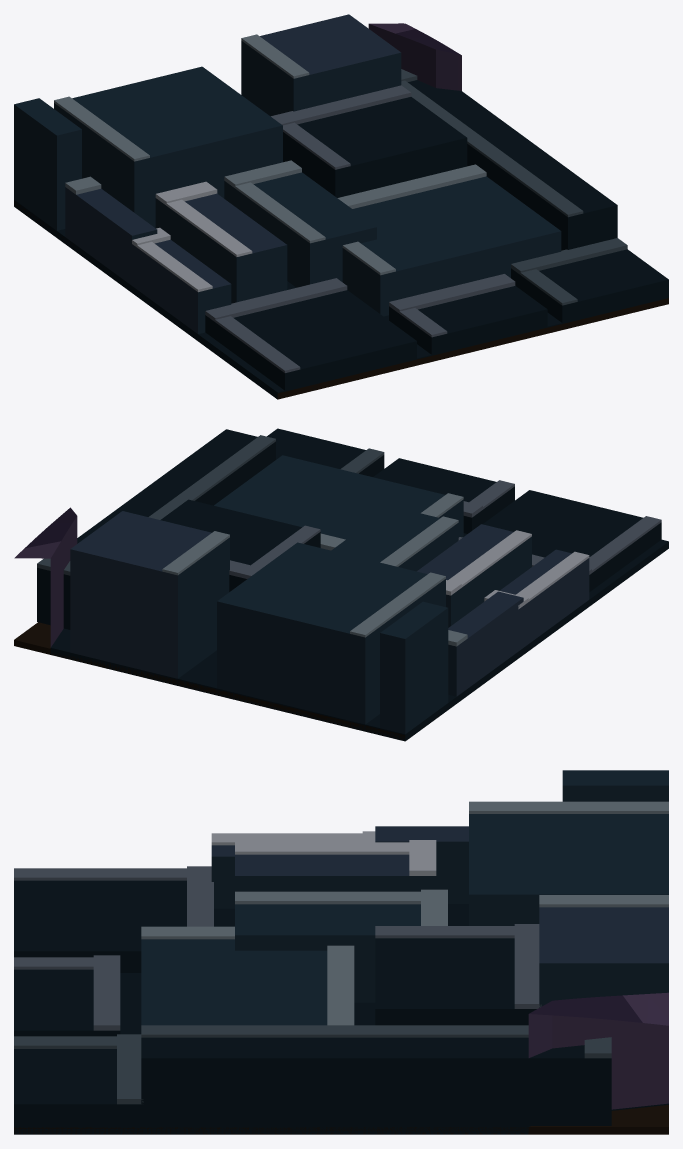
File: newshr-45.glb
3 views of the same model, one above another, from view 1: azimuth 30°, elevation 25°; view 2: azimuth 150°, elevation 25°; view 3: azimuth 270°, elevation 25° (orthographic). The views are drawn at different scales.
Visible parts, largest first — view 1: newshr-45; view 2: newshr-45; view 3: newshr-45.
Boxes of the visible parts, x1,y1,x2,y2 form: newshr-45: [14, 14, 668, 399]; newshr-45: [14, 428, 668, 741]; newshr-45: [14, 770, 668, 1134].
Bounding box in the file's own units: 2 × 0.552 × 2.33.
